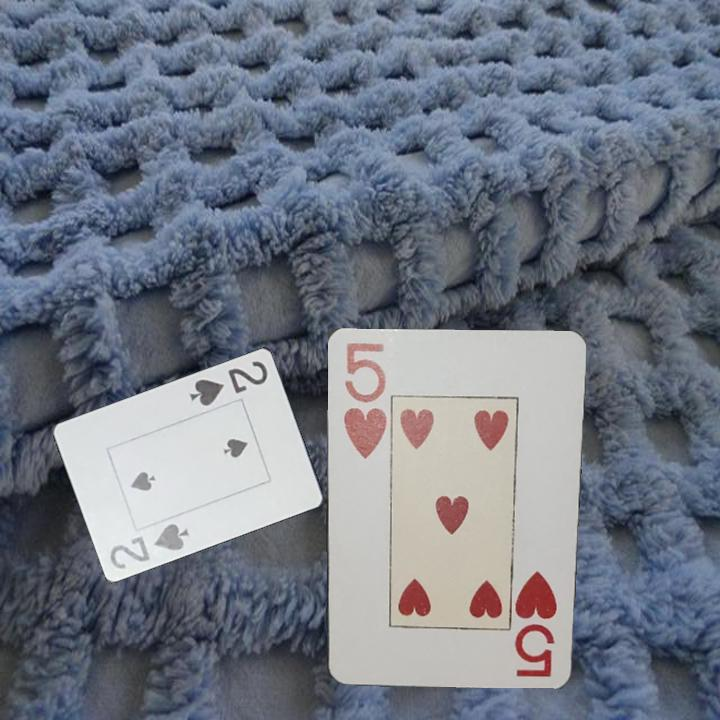2s: (106, 519, 192, 572), (186, 357, 271, 409)
5h: (339, 338, 389, 461), (519, 567, 560, 679)
